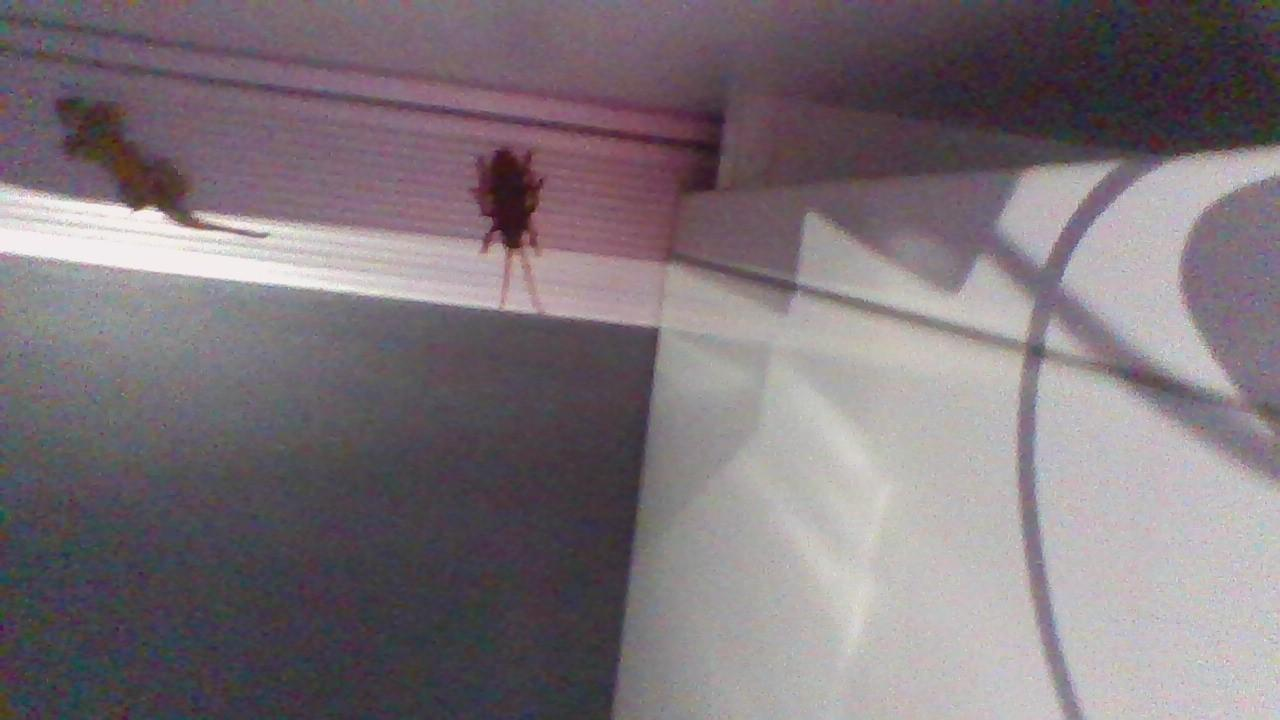cockroach: (455, 129, 574, 330)
lizard: (43, 83, 283, 247)
